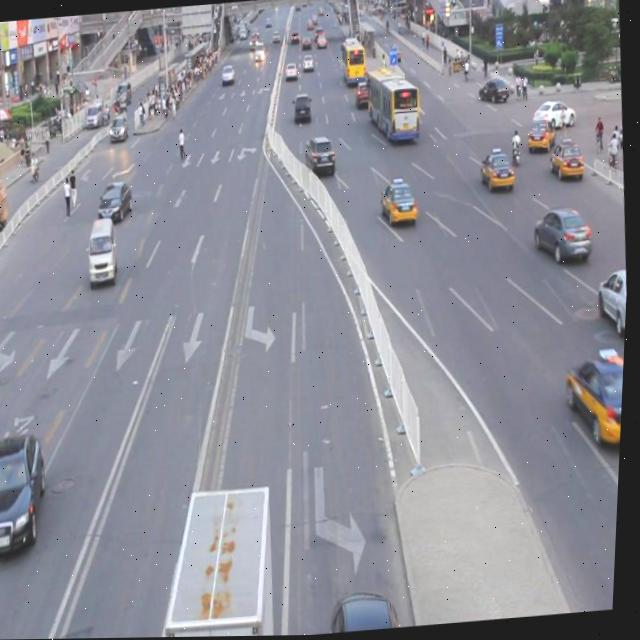bus: (158, 480, 284, 638)
car: (0, 427, 56, 557), (564, 354, 627, 447), (531, 205, 594, 267), (331, 586, 410, 634), (596, 269, 630, 335), (379, 178, 421, 227), (97, 181, 136, 222), (480, 149, 516, 192), (548, 139, 584, 180)
truck: (87, 216, 121, 284)
